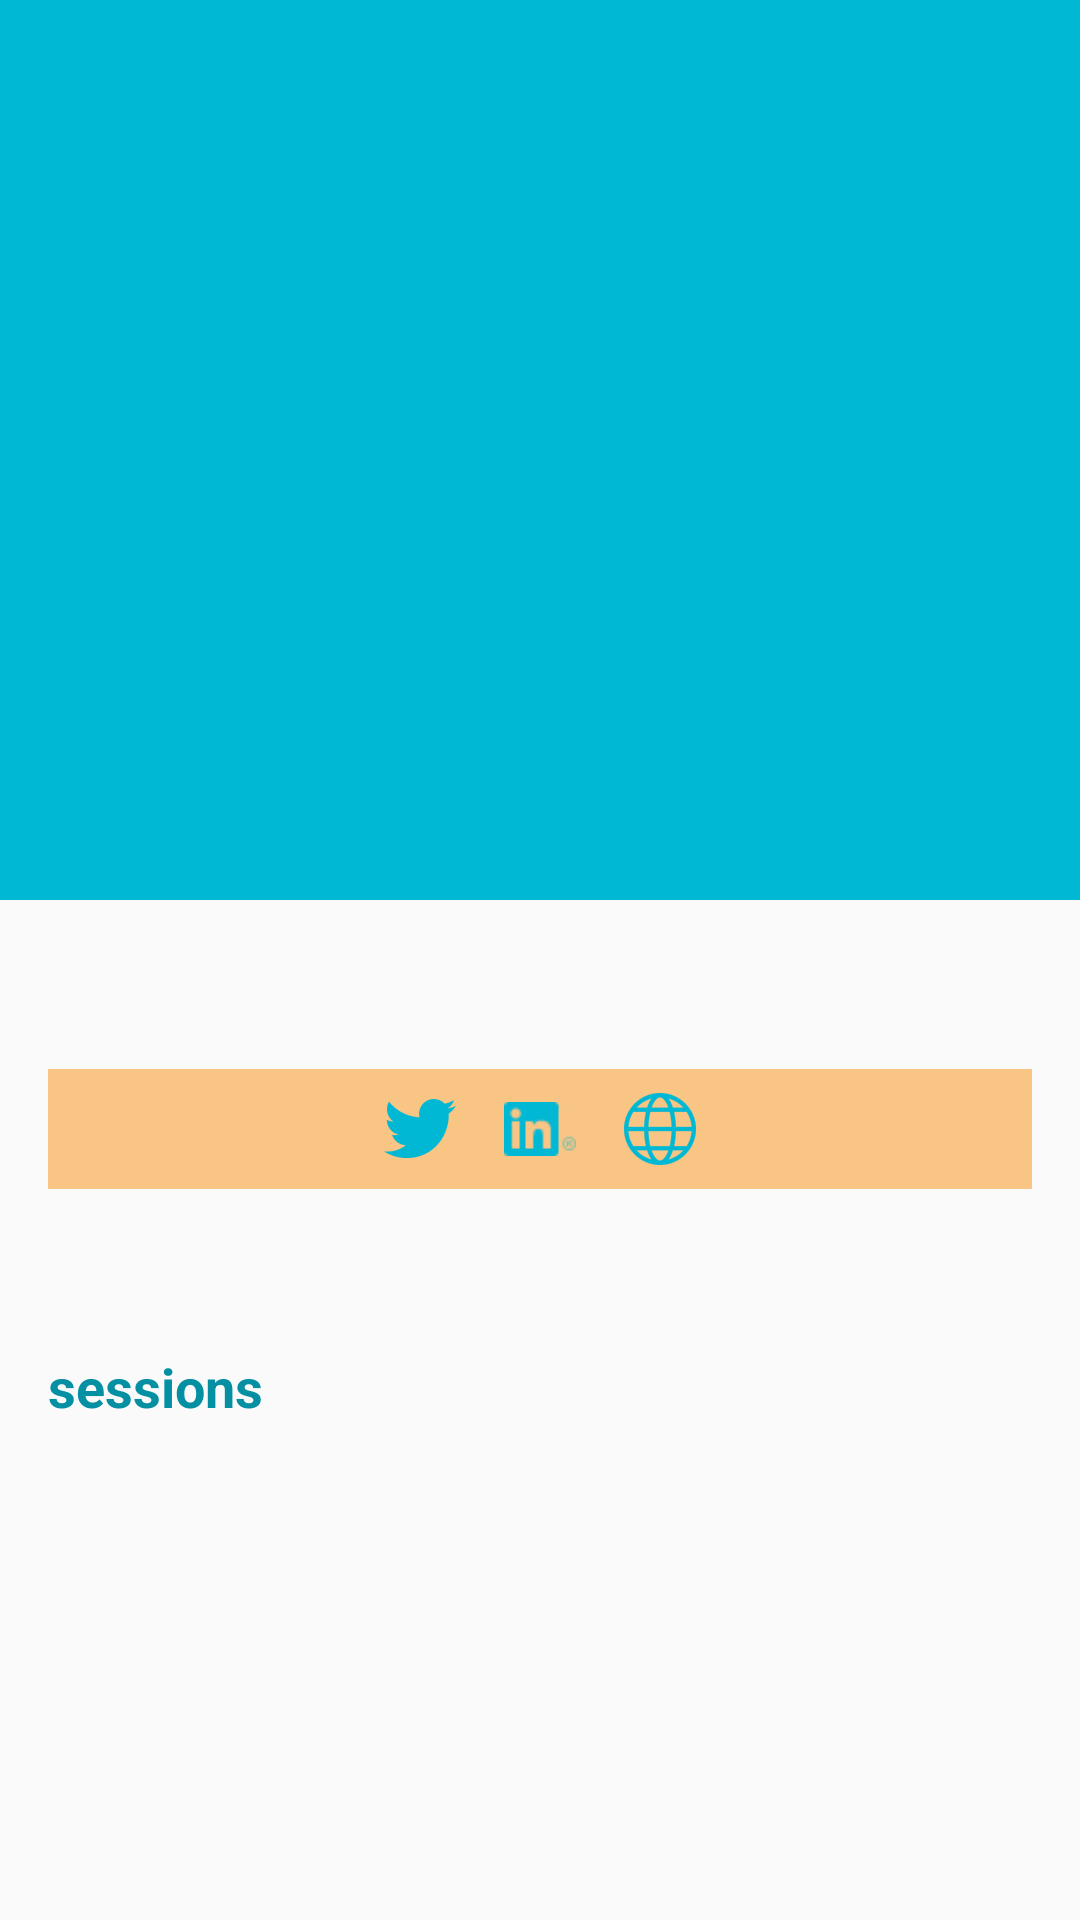

Named icons in this screenshot (1080 × 1920) and their bounding boxes, [x1, y1, x2, y2]:
web world: [624, 1093, 696, 1165]
